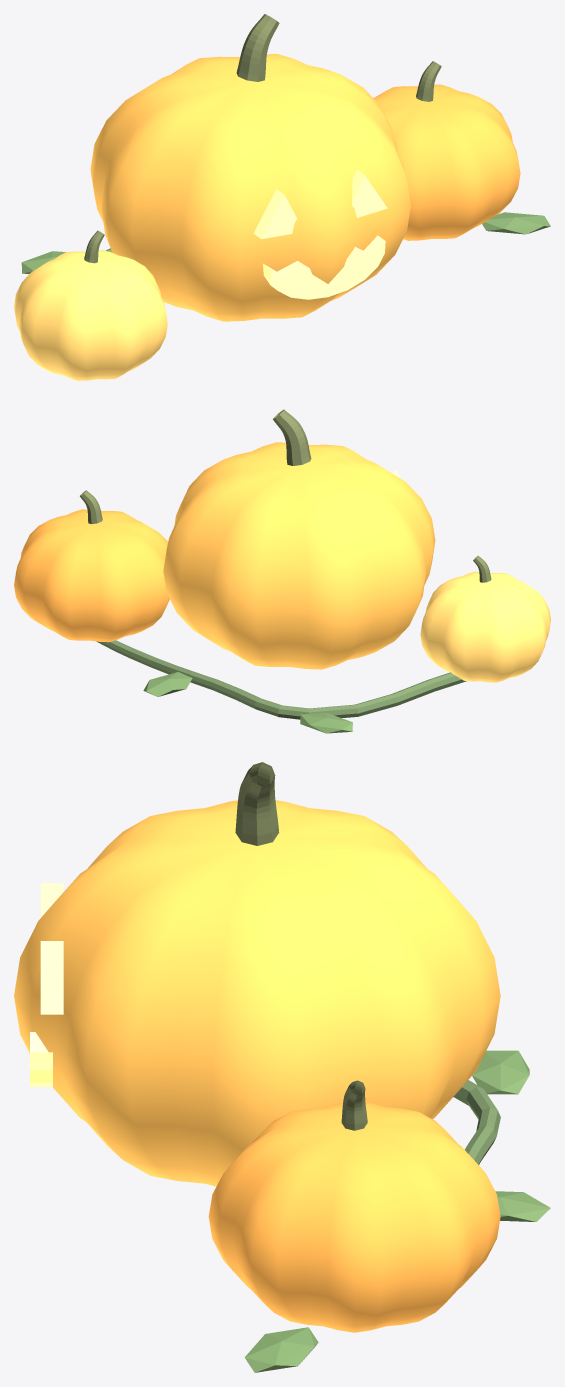
The model's file is halloween_pumpkins.glb.
3 renders of one model, top to bottom at view 1: azimuth 30°, elevation 25°; view 2: azimuth 150°, elevation 25°; view 3: azimuth 270°, elevation 25°, orthographic. The views are drawn at different scales.
Parts seen in each view (by area): view 1: Patch, Glow; view 2: Patch; view 3: Patch, Glow.
Part boxes in pixels (<box>): Patch: <box>14,14,550,380</box>; Glow: <box>253,169,387,299</box>; Patch: <box>14,409,550,733</box>; Patch: <box>14,762,550,1372</box>; Glow: <box>30,883,63,1086</box>.
Bounding box in the file's own units: 1.94 × 0.9513 × 1.1.
